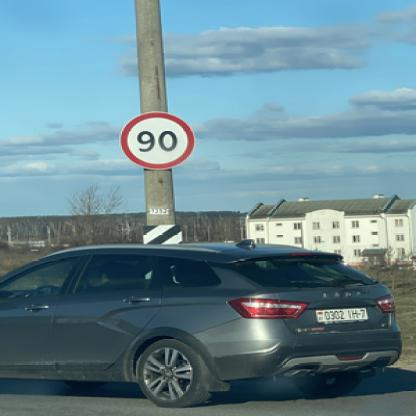speedlimit: (118, 110, 193, 168)
